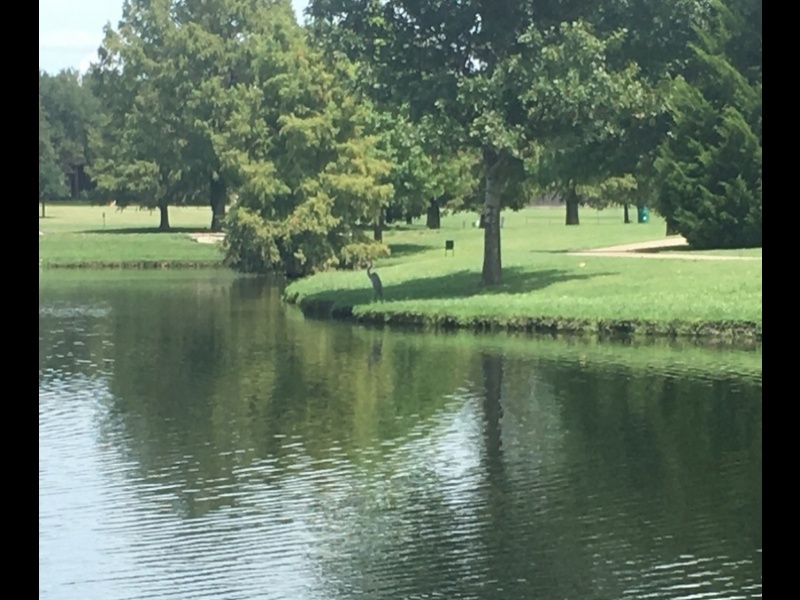heron: (360, 256, 384, 301)
